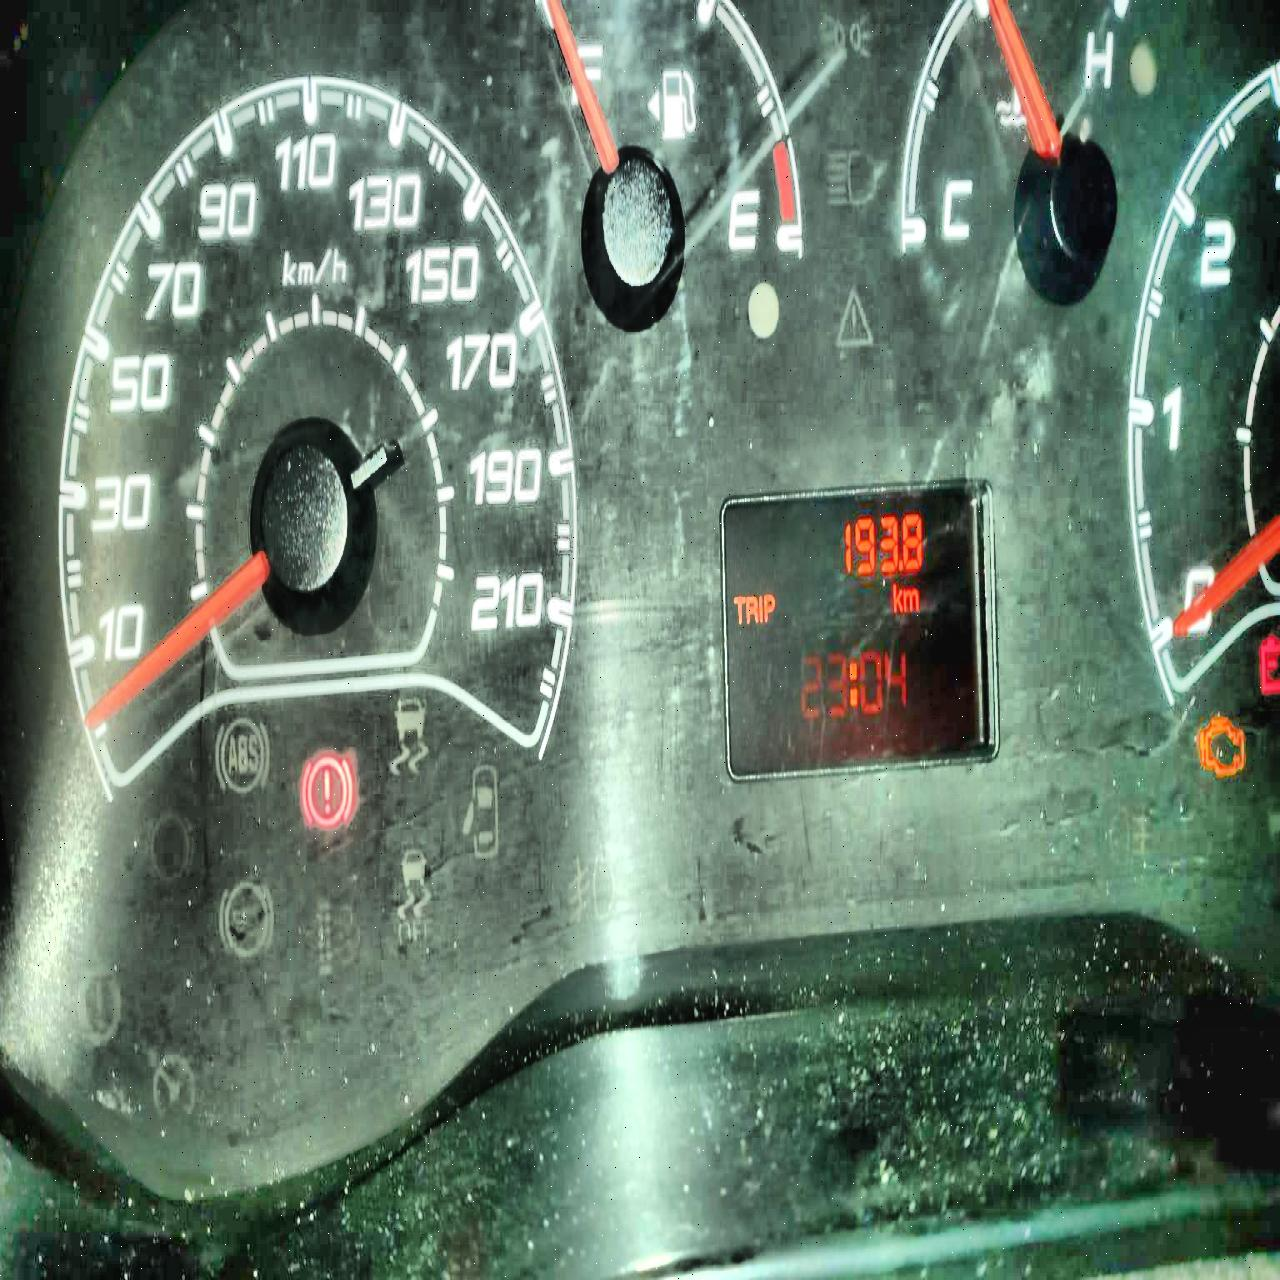-: (898, 558, 904, 568)
0: (858, 651, 884, 714)
1: (843, 522, 852, 573)
2: (801, 655, 822, 720)
3: (825, 652, 847, 717), (878, 515, 898, 572)
4: (884, 651, 907, 707)
8: (901, 512, 922, 571)
9: (853, 516, 874, 574)
X: (744, 594, 758, 625), (849, 661, 858, 706), (903, 587, 919, 612), (731, 594, 744, 624), (763, 593, 775, 622), (892, 580, 903, 611), (757, 592, 763, 624)
odometer: (717, 472, 1001, 785)
